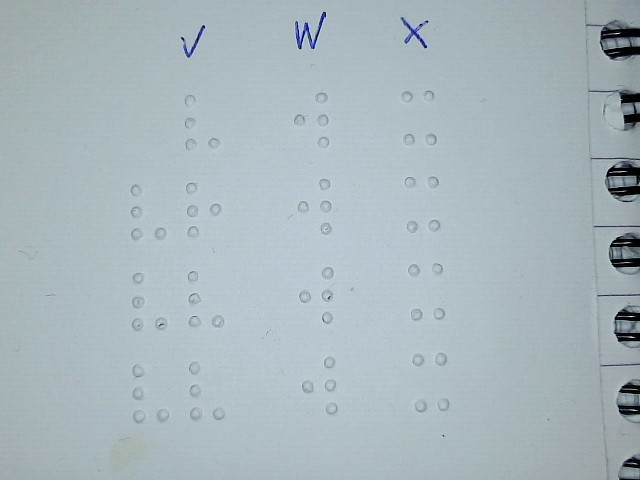V: (131, 362, 171, 423), (186, 267, 226, 328), (183, 92, 221, 151), (129, 182, 167, 241), (188, 361, 226, 420)
W: (300, 355, 338, 416), (292, 90, 330, 149), (295, 176, 333, 235), (297, 265, 335, 324)
X: (410, 351, 451, 412), (403, 174, 442, 233), (407, 261, 445, 321), (400, 88, 438, 147)
